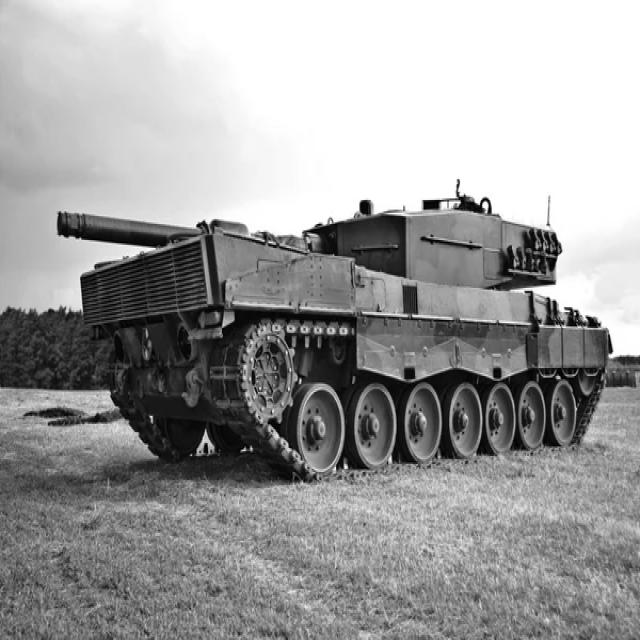Tank: (46, 144, 618, 464)
